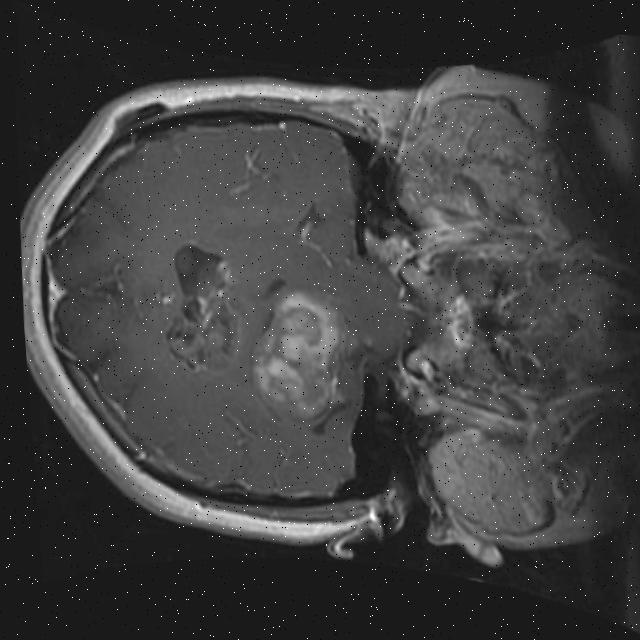Glioma: (243, 287, 351, 424), (157, 241, 247, 375)
Pituitary: (446, 290, 476, 348)
